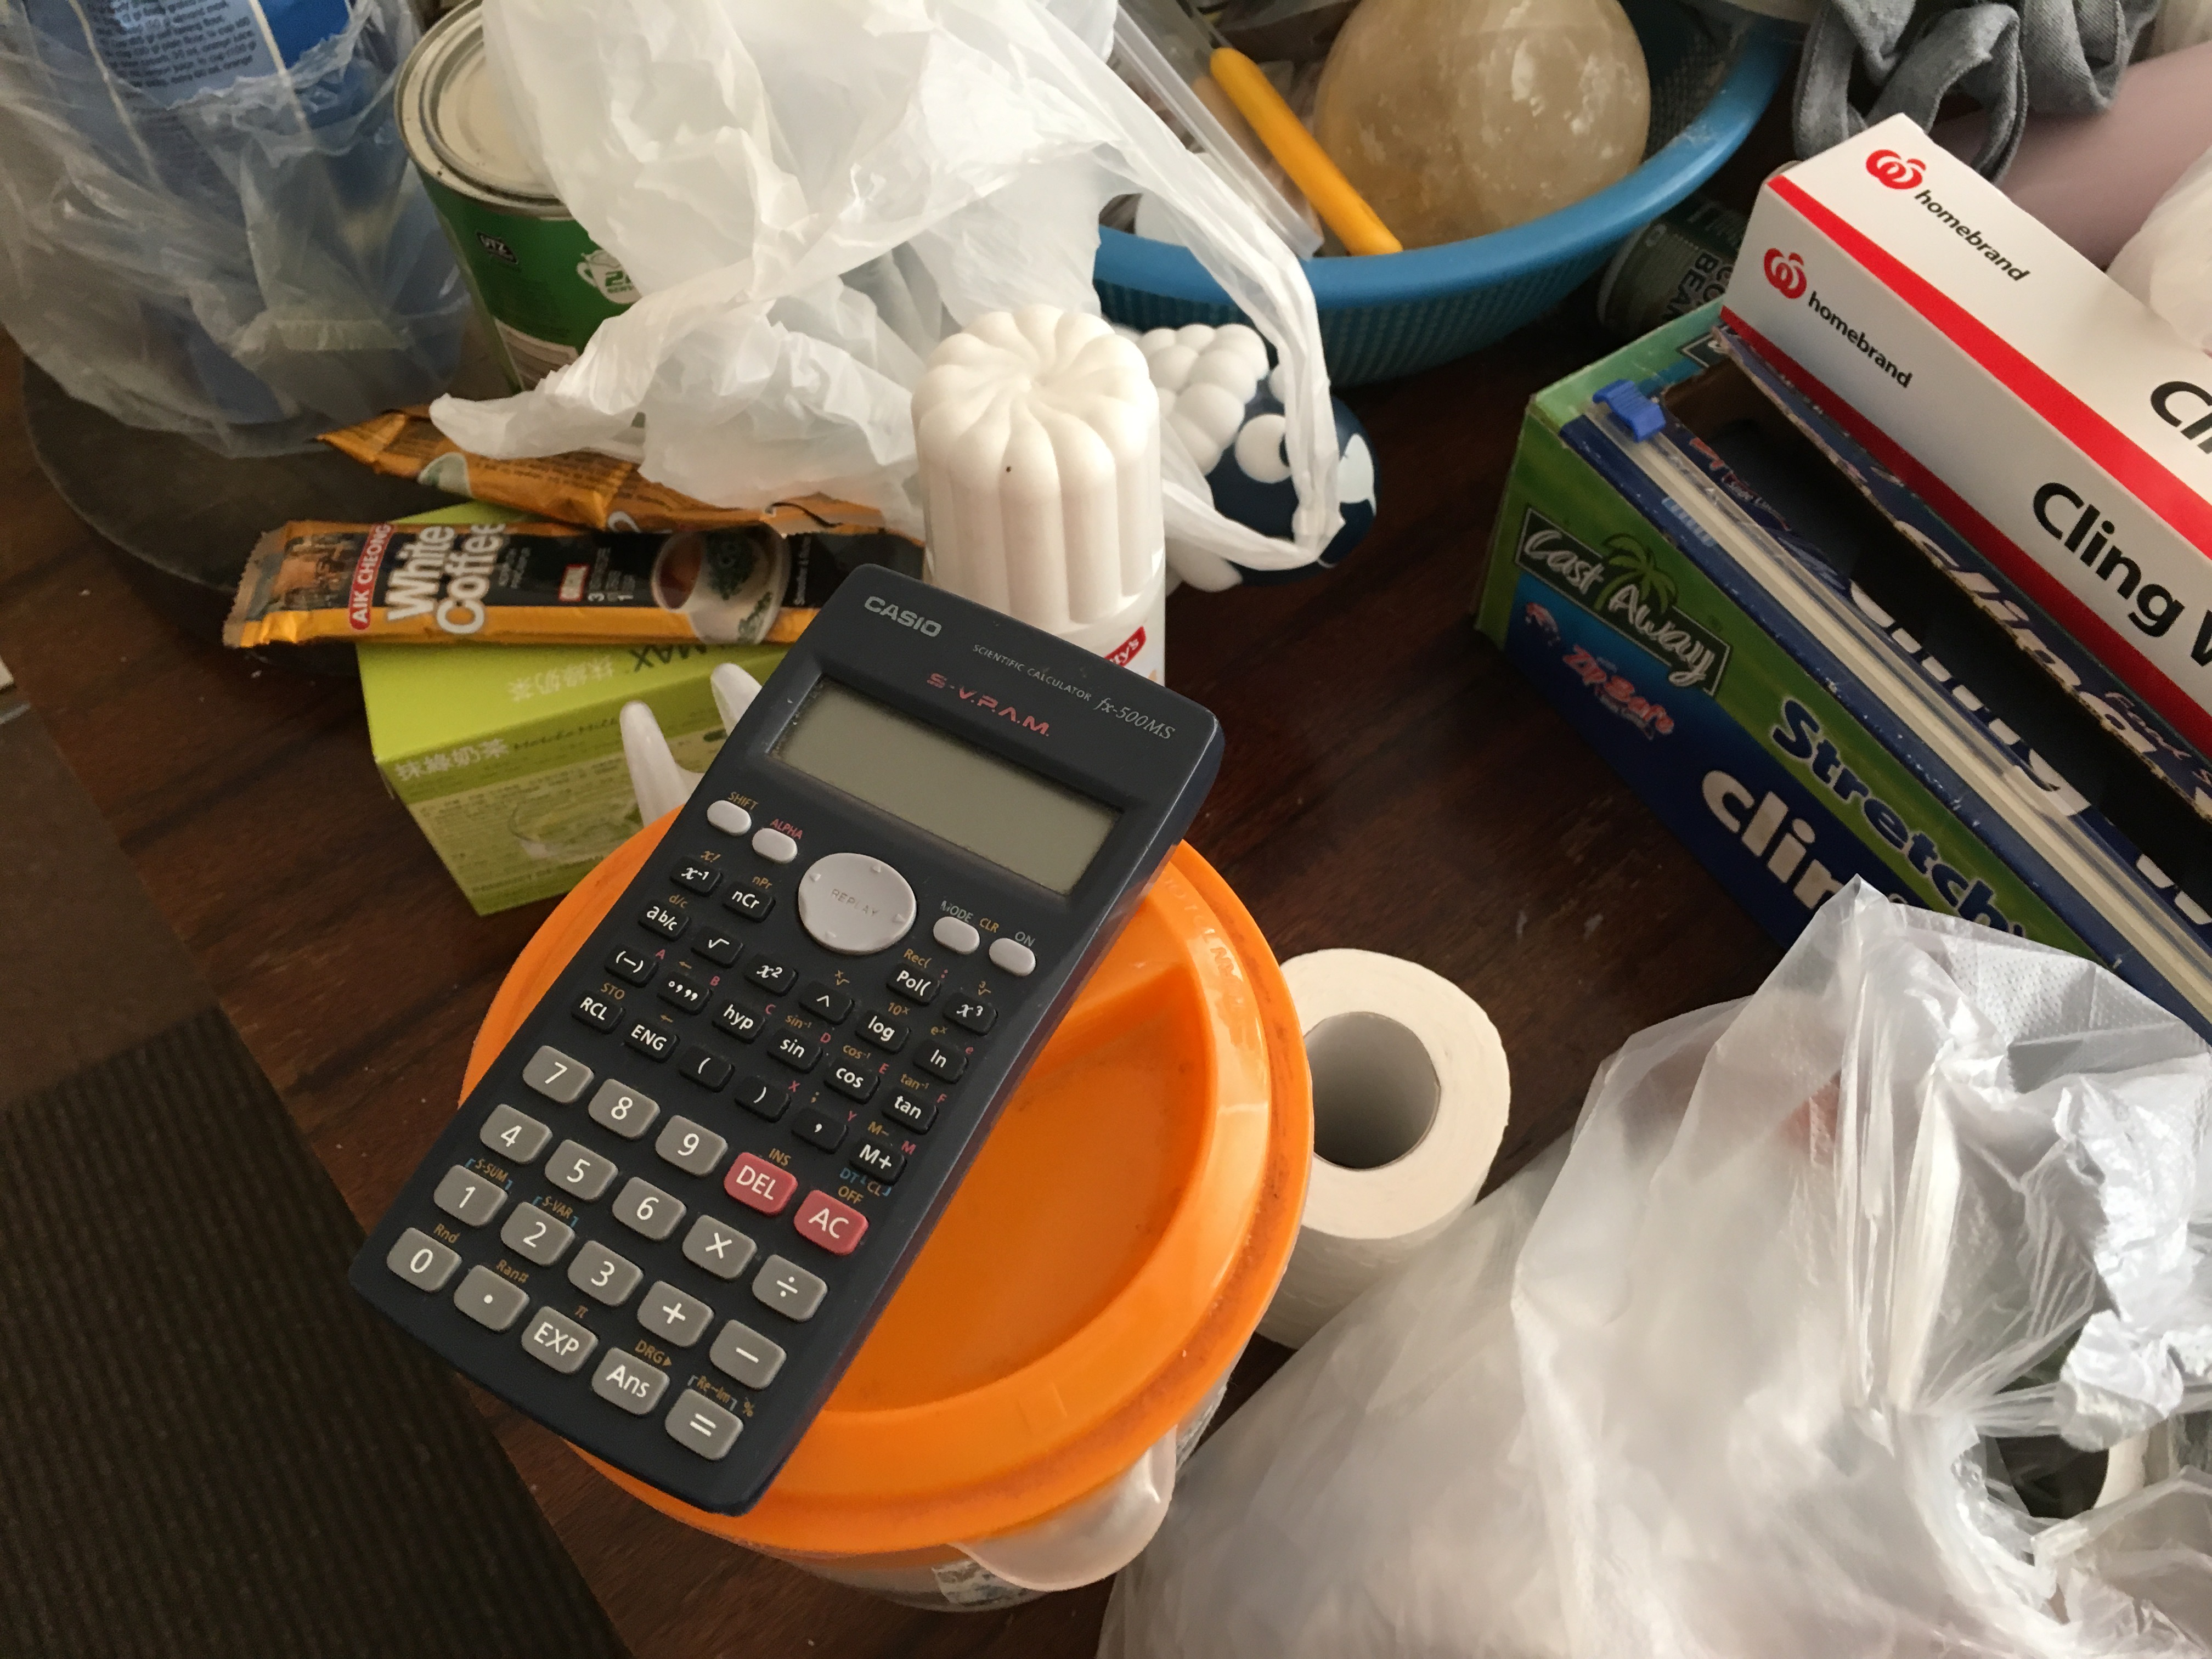Calculator: (333, 551, 1256, 1535)
